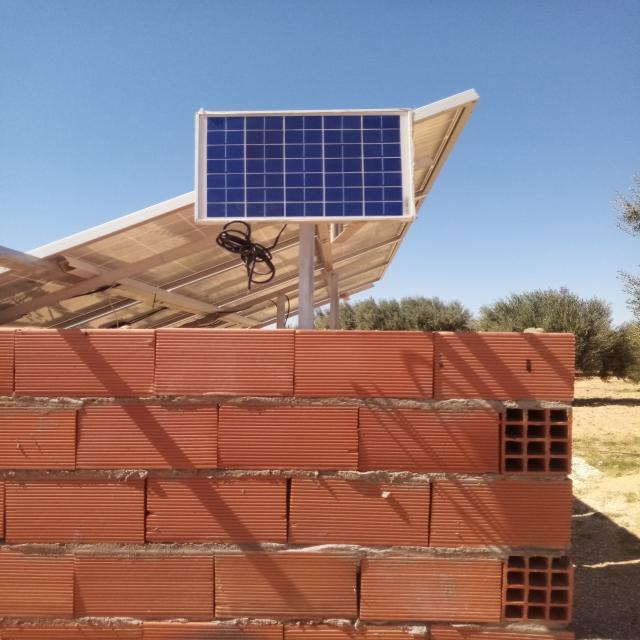no faulty: (197, 110, 414, 222)
